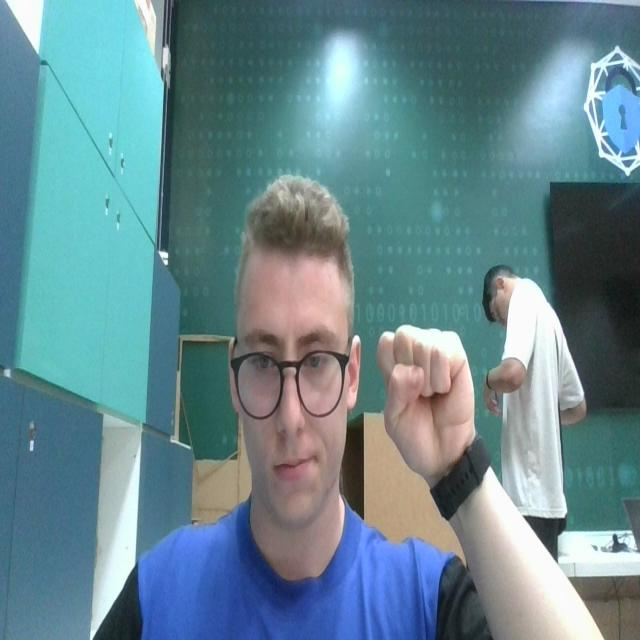S: (375, 324, 476, 471)
